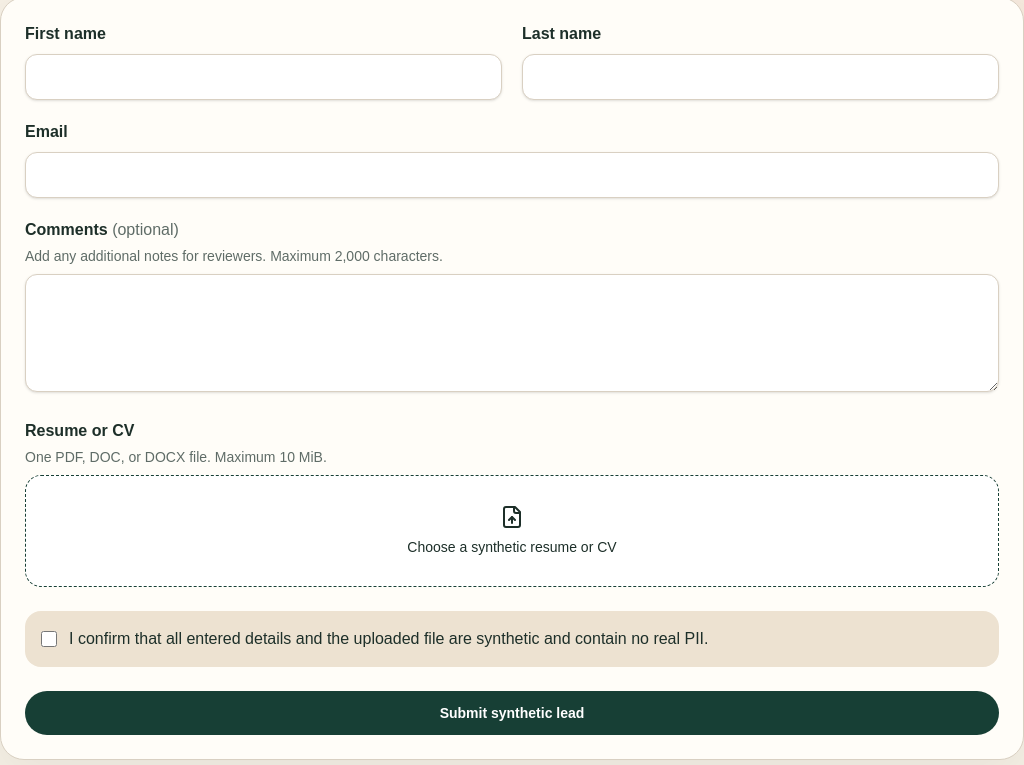
public lead intake › reports accessible validation errors
Step 1. Click the button "Submit synthetic lead" → (512, 713), box [25,691,999,735]
(page scrolled)
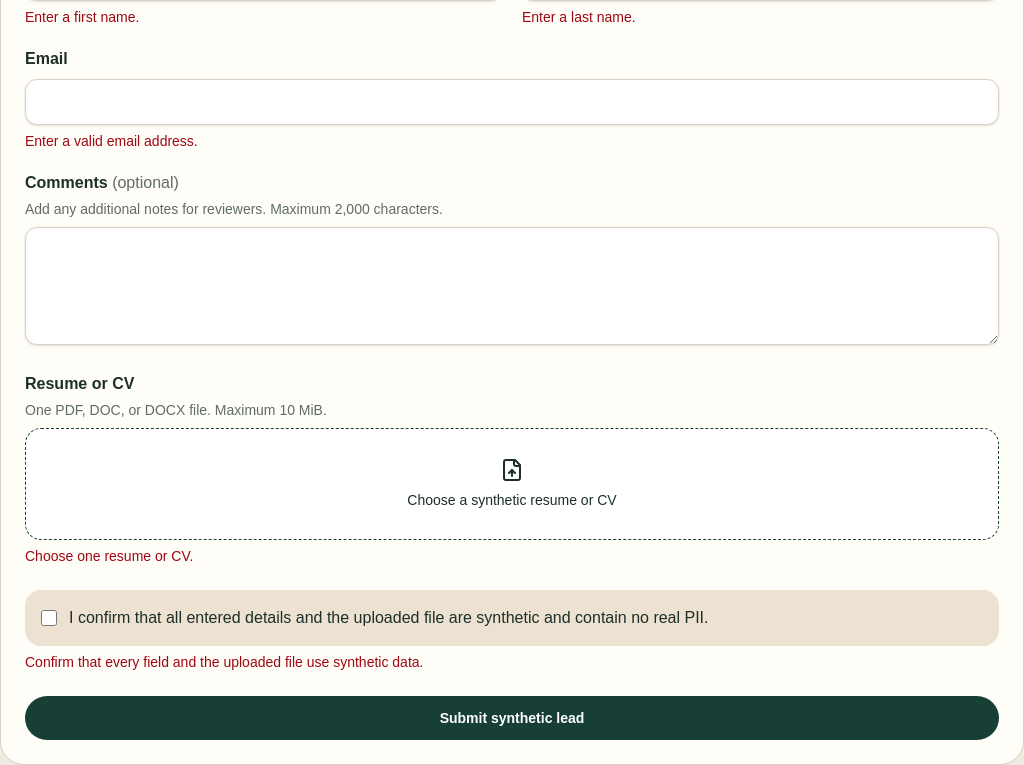
Check: the text "Enter a valid email address." is shown, box [25,133,198,149]
Check: the text "Choose one resume or CV." is shown, box [25,548,193,564]
Check: the text "Confirm that every field and the uploaded file use synthetic data." is shown, box [25,654,424,670]
